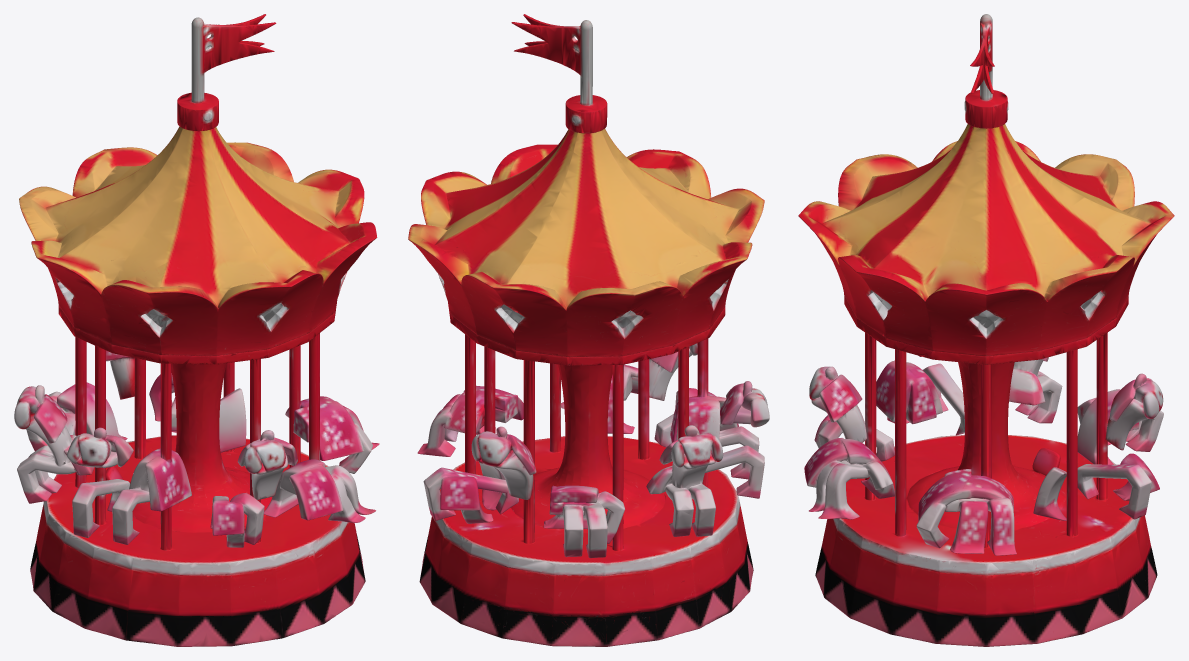
File: theme_park_level1.glb
3 views of the same model, side by side, from view 1: azimuth 30°, elevation 25°; view 2: azimuth 150°, elevation 25°; view 3: azimuth 270°, elevation 25° (orthographic).
Parts seen in each view (by area): view 1: material; view 2: material; view 3: material.
Boxes of the visible parts, box(x1,y1,x2,y2) form: material: box(14, 14, 379, 646); material: box(408, 14, 769, 646); material: box(798, 14, 1174, 646).
Size of the model in its own units: 0.646 by 1.05 by 0.6397.
Materials: 1 (1 with a texture image).
